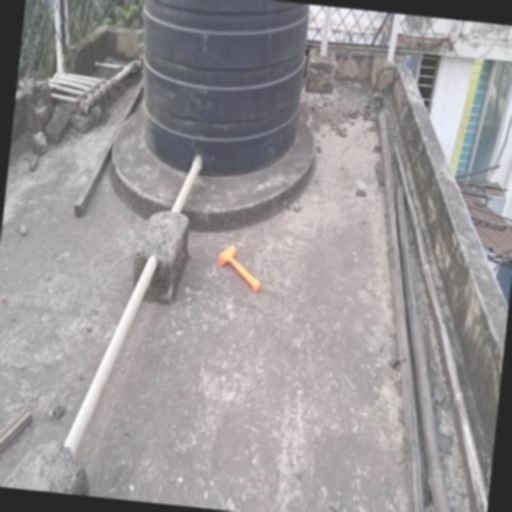mallet: (216, 242, 266, 291)
